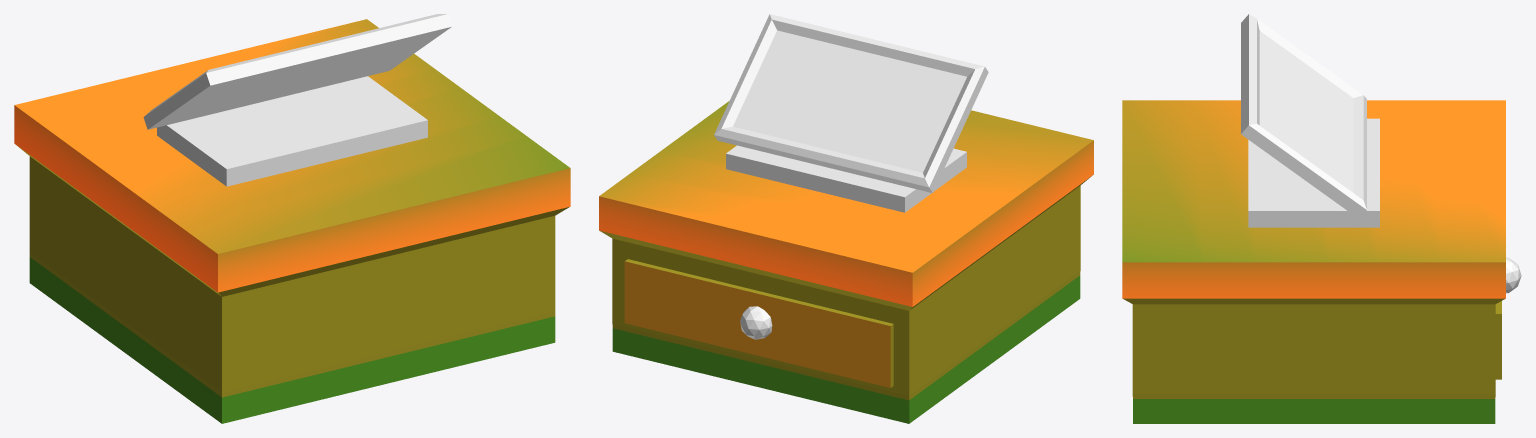
The model's file is Ordering Terminal.fbx.
3 views of the same model, side by side, from view 1: azimuth 30°, elevation 25°; view 2: azimuth 150°, elevation 25°; view 3: azimuth 270°, elevation 25° (orthographic). The views are drawn at different scales.
Parts seen in each view (by area): view 1: Base_L_Counter_blend, Top_L_Counter_blend, Cube; view 2: Base_L_Counter_blend, Cube, Top_L_Counter_blend, Handle_L_Counter_blend; view 3: Base_L_Counter_blend, Top_L_Counter_blend, Cube, Handle_L_Counter_blend.
Part boxes in pixels (<box>): Base_L_Counter_blend: <box>14,105,570,423</box>; Top_L_Counter_blend: <box>15,19,569,253</box>; Cube: <box>143,14,451,186</box>; Base_L_Counter_blend: <box>599,140,1093,423</box>; Cube: <box>714,14,988,212</box>; Top_L_Counter_blend: <box>599,101,1093,272</box>; Handle_L_Counter_blend: <box>740,306,772,339</box>; Base_L_Counter_blend: <box>1122,262,1505,423</box>; Top_L_Counter_blend: <box>1122,100,1505,262</box>; Cube: <box>1241,14,1379,227</box>; Handle_L_Counter_blend: <box>1506,257,1521,293</box>.
Size of what is drawn, in the model's own units: 100 by 79.89 by 104.
